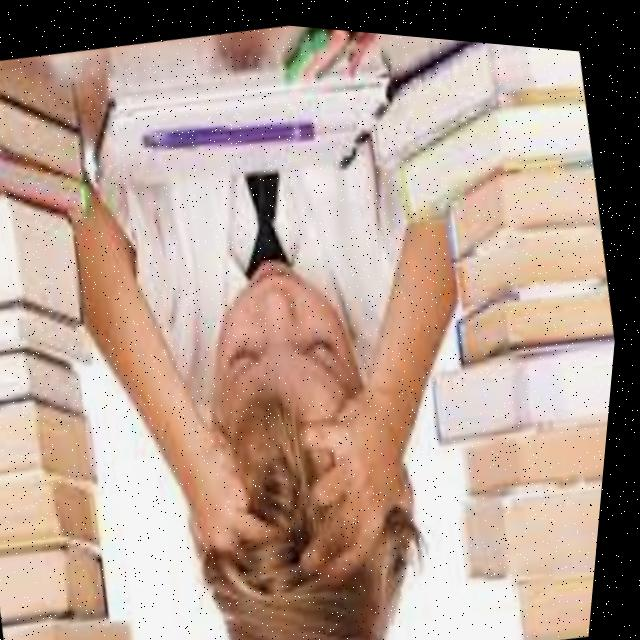studying-person: (83, 48, 456, 640)
